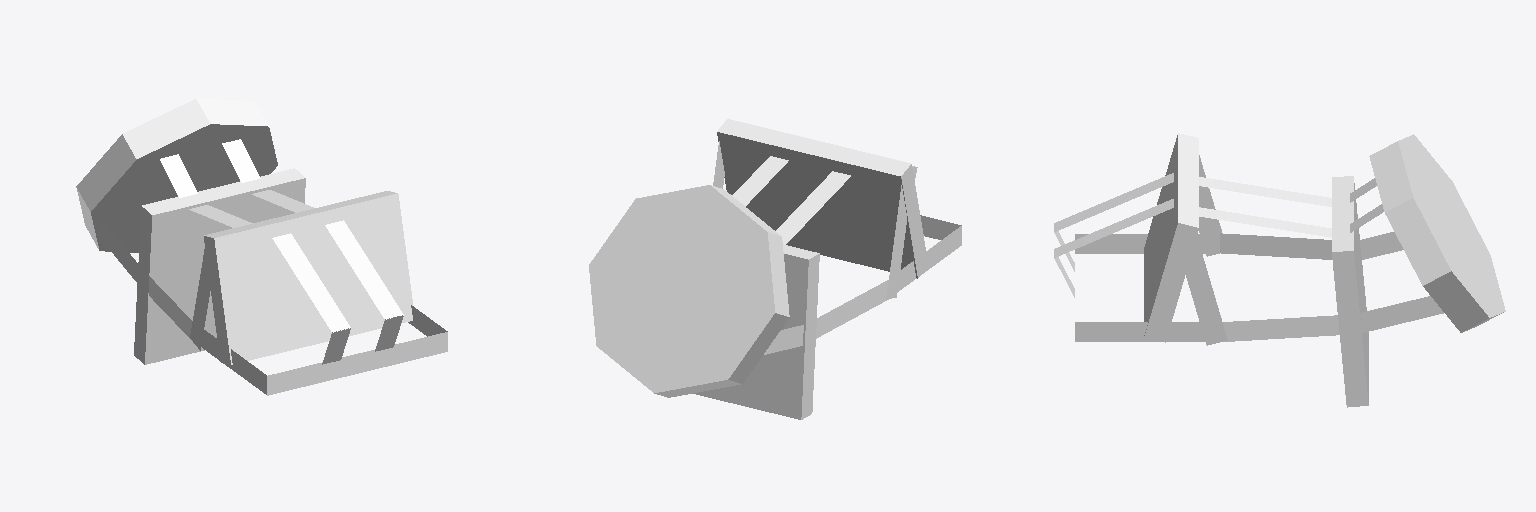
Rendered from mt_harness.obj.
3 views of the same model, side by side, from view 1: azimuth 30°, elevation 25°; view 2: azimuth 150°, elevation 25°; view 3: azimuth 270°, elevation 25° (orthographic).
Parts seen in each view (by area): view 1: cube.008, cube.006, octagon, cube.000, octagon.001, octagon.000, octagon.002, cube.009, cube.010, cube.007, cube.005, cube.004 (+6 smaller); view 2: cube.008, octagon.000, cube.006, octagon.001, octagon, octagon.002, cube.000, cube.013, cube.002, cube.007, cube.014, cube; view 3: cube.008, cube.006, octagon.002, cube.000, octagon.000, octagon.001, cube.007, octagon, cube.003, cube.002, cube.001, cube.014 (+4 smaller).
Boxes of the visible parts, <box> form: cube.008: <box>204,191,412,364</box>; cube.006: <box>134,168,305,364</box>; octagon: <box>76,134,277,211</box>; cube.000: <box>201,305,447,395</box>; octagon.001: <box>101,98,268,252</box>; octagon.000: <box>123,99,209,160</box>; octagon.002: <box>76,127,277,250</box>; cube.009: <box>272,233,350,332</box>; cube.010: <box>325,220,403,319</box>; cube.007: <box>190,249,210,350</box>; cube.005: <box>222,139,260,182</box>; cube.004: <box>160,154,197,197</box>; cube.008: <box>717,119,928,278</box>; octagon.000: <box>597,185,781,392</box>; cube.006: <box>693,244,819,419</box>; octagon.001: <box>636,185,740,397</box>; octagon: <box>589,232,789,345</box>; octagon.002: <box>589,199,789,383</box>; cube.000: <box>898,215,961,291</box>; cube.013: <box>776,171,850,244</box>; cube.002: <box>816,280,888,338</box>; cube.007: <box>713,141,906,299</box>; cube.014: <box>732,156,788,206</box>; cube: <box>764,325,803,354</box>; cube.008: <box>1144,133,1198,342</box>; cube.006: <box>1332,176,1368,407</box>; octagon.002: <box>1385,181,1489,285</box>; cube.000: <box>1075,234,1216,341</box>; octagon.000: <box>1398,134,1505,332</box>; octagon.001: <box>1369,141,1504,308</box>; cube.007: <box>1186,155,1227,345</box>; octagon: <box>1415,136,1488,332</box>; cube.003: <box>1223,315,1339,341</box>; cube.002: <box>1220,233,1331,259</box>; cube.001: <box>1360,296,1443,332</box>; cube.014: <box>1199,207,1331,237</box>.
Bounding box in the file's own units: 1.22 × 1.43 × 2.55.